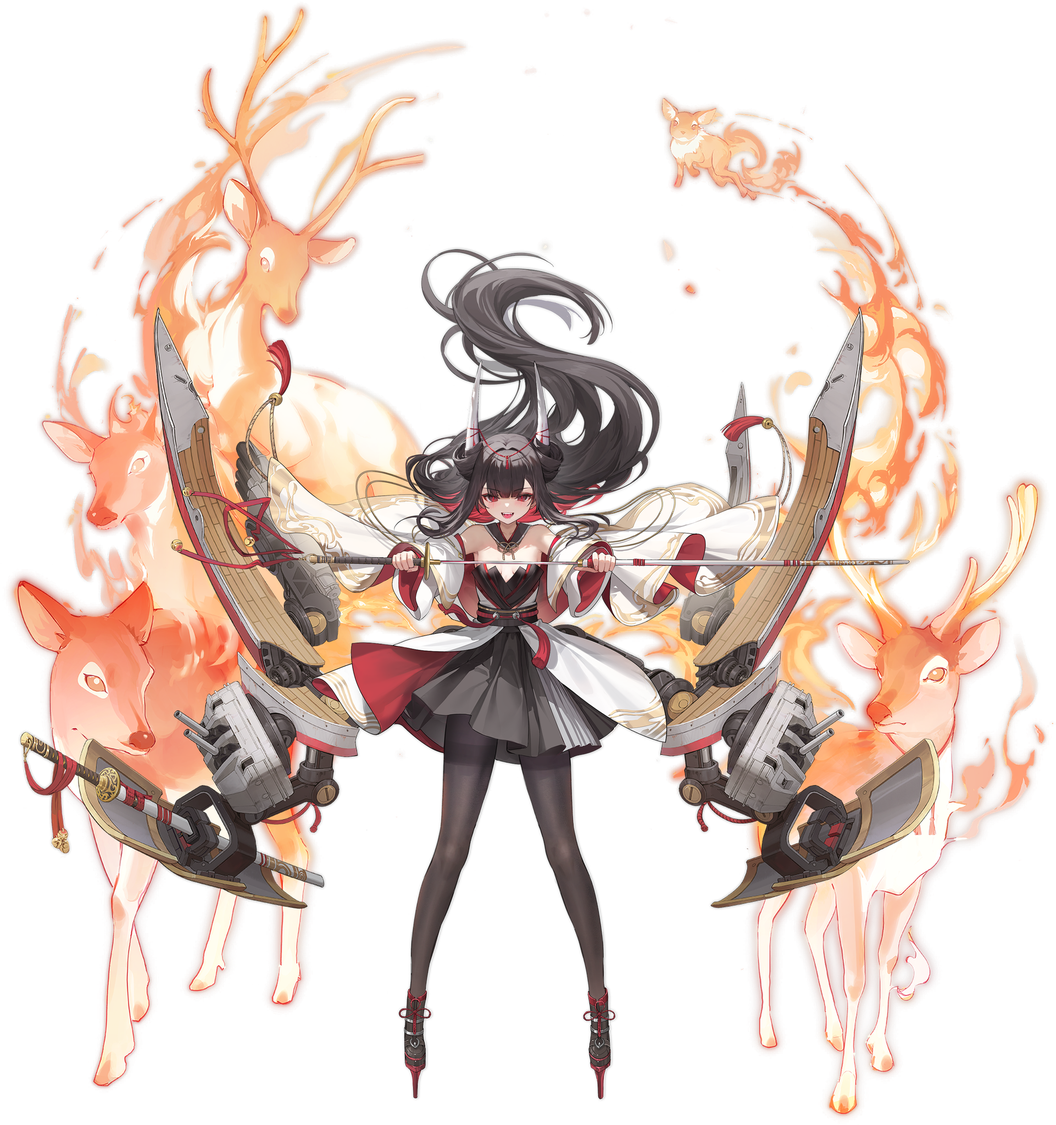person: (320, 382, 683, 1121)
